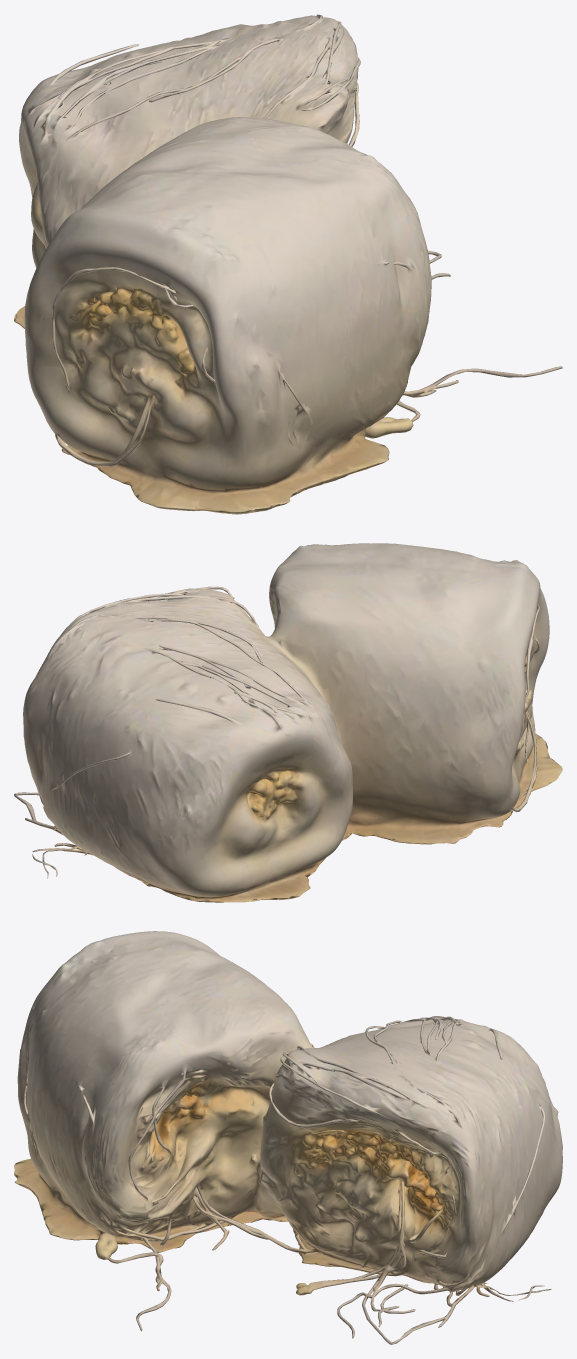
The model's file is barba-dragon.glb.
3 views of the same model, one above another, from view 1: azimuth 30°, elevation 25°; view 2: azimuth 150°, elevation 25°; view 3: azimuth 270°, elevation 25° (orthographic). The views are drawn at different scales.
Parts seen in each view (by area): view 1: tripo_node_14606a15-3ec3-445a-a985-7e2ff161eebd; view 2: tripo_node_14606a15-3ec3-445a-a985-7e2ff161eebd; view 3: tripo_node_14606a15-3ec3-445a-a985-7e2ff161eebd.
Boxes of the visible parts, box(x1,y1,x2,y2) form: tripo_node_14606a15-3ec3-445a-a985-7e2ff161eebd: box(14, 14, 562, 514); tripo_node_14606a15-3ec3-445a-a985-7e2ff161eebd: box(14, 543, 562, 902); tripo_node_14606a15-3ec3-445a-a985-7e2ff161eebd: box(14, 931, 562, 1344).
Size of the model in its own units: 0.8987 by 0.4501 by 0.9791.
1 material, 1 textured.
